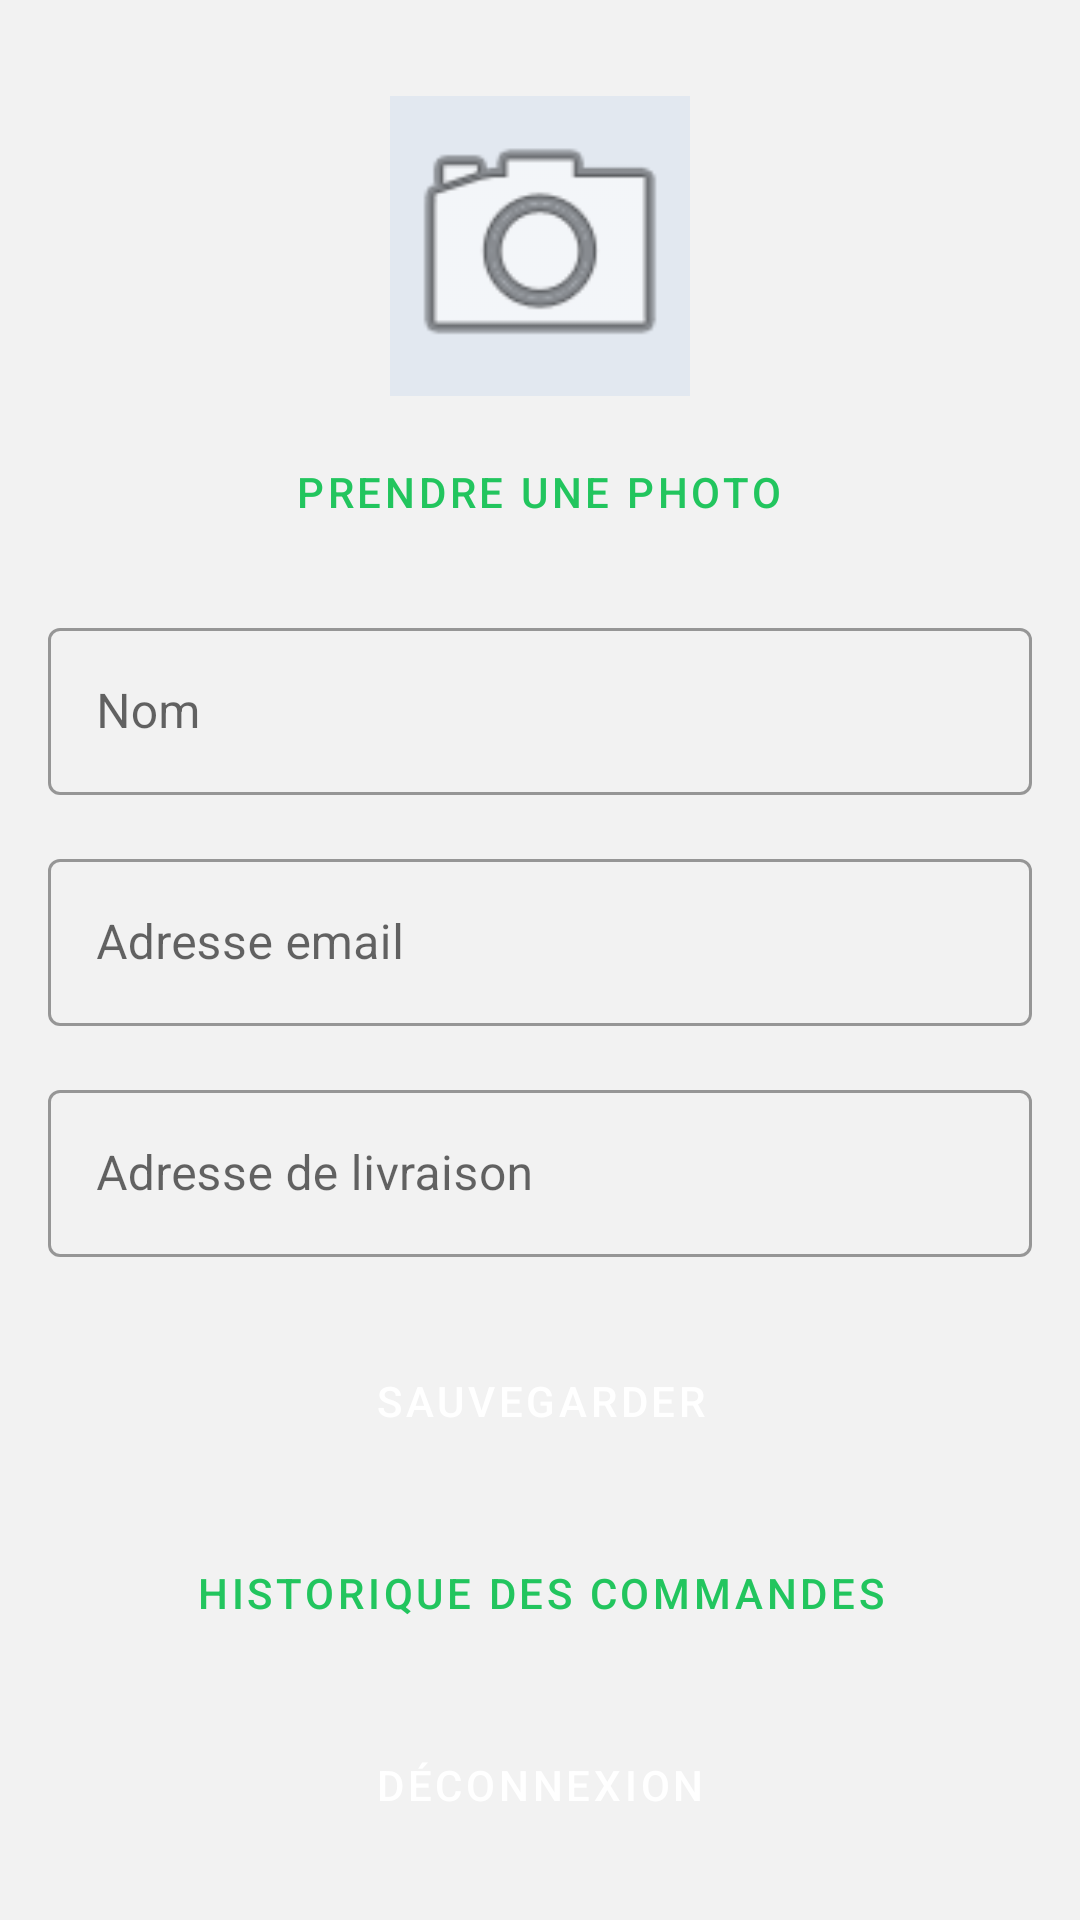

Locate icon controls on the screen. Image size 1080 x 1920, boxes as (x1, y1, x2, y2).
Photo de profil: (390, 96, 690, 396)
